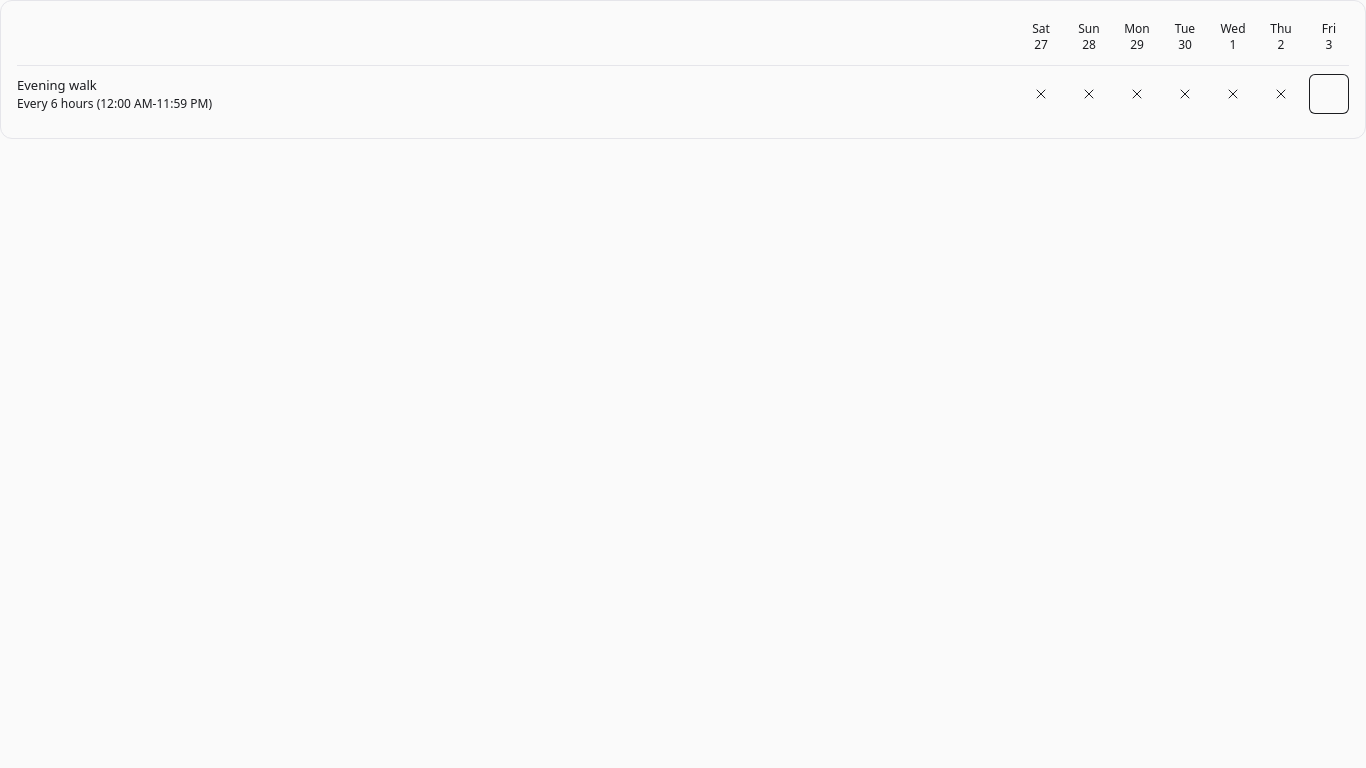
Test case: HabitMatrix › opens a slot popover for hourly habits instead of toggling directly
The image size is (1366, 768).
What coordinates should you click on to do the following:
click the button named "2026-07-02 - missed"
I would click on:
 (1281, 94)
Its box is [1261,74,1301,114].
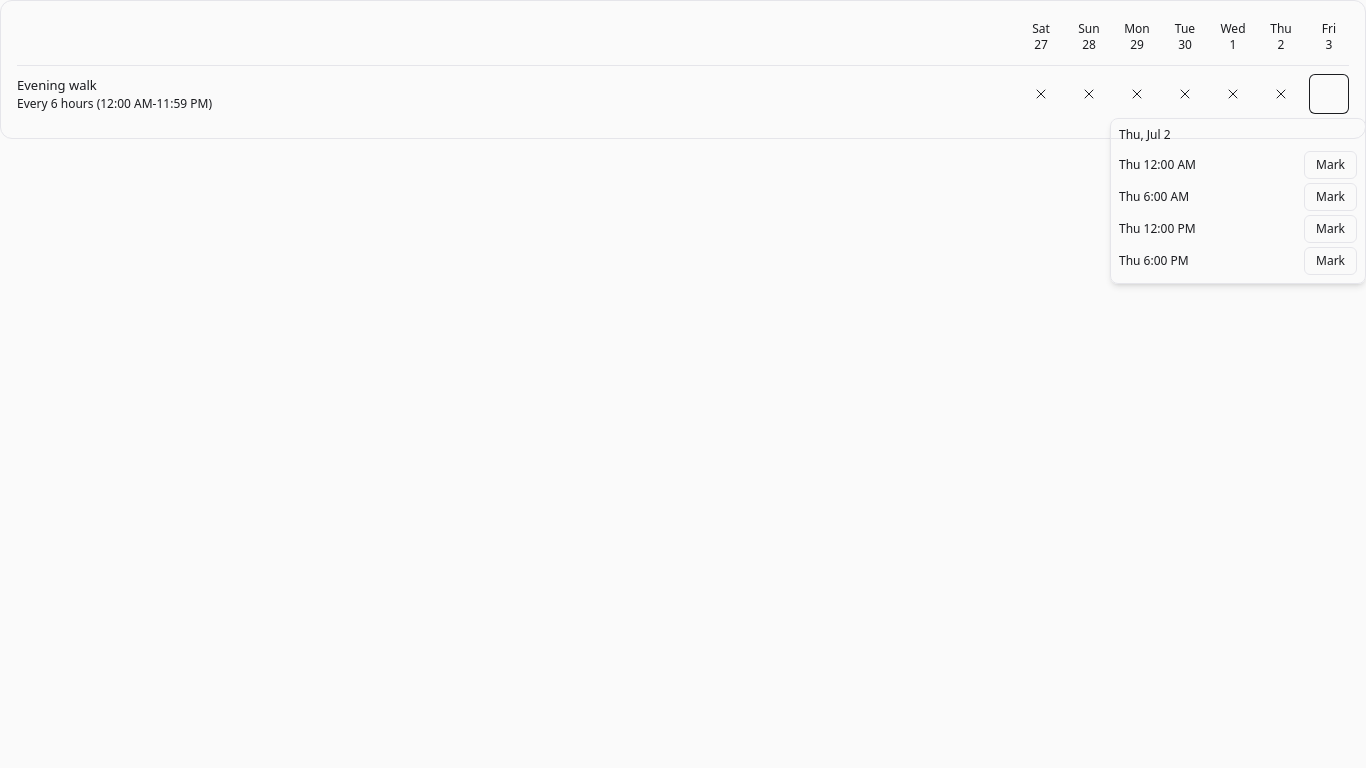
Result: the text "Mark" is shown at [1316,157,1345,173]
